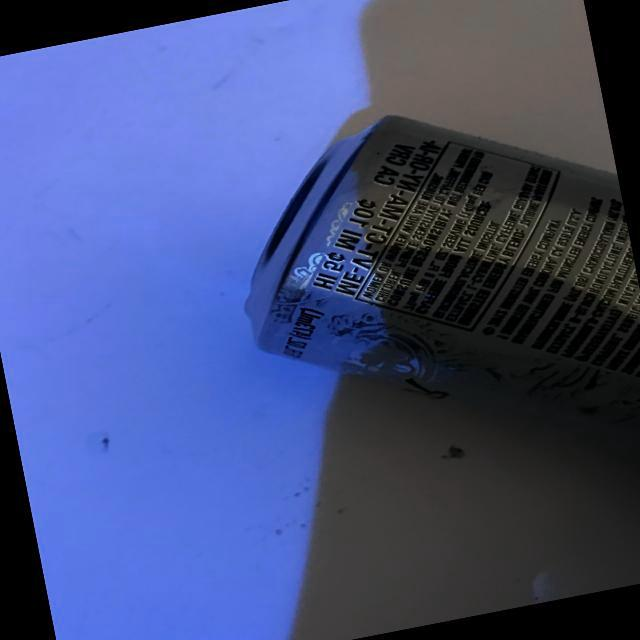metal: (175, 63, 640, 530)
